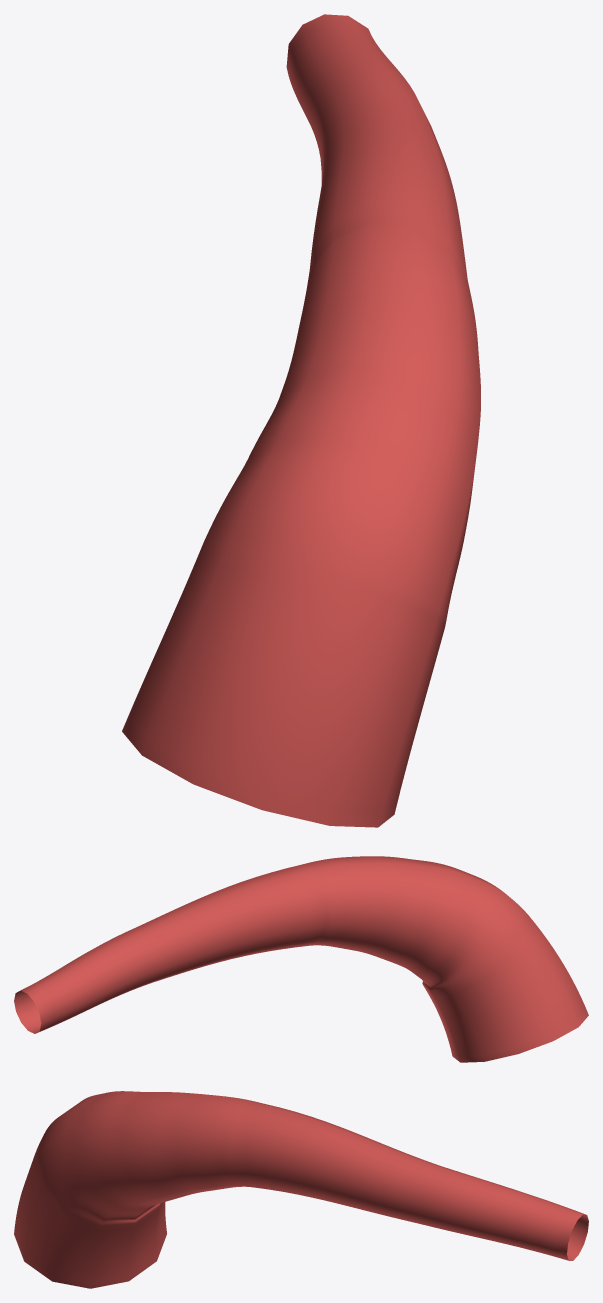
The picture shows the model from 3 angles, top to bottom: view 1: azimuth 30°, elevation 25°; view 2: azimuth 150°, elevation 25°; view 3: azimuth 270°, elevation 25°; orthographic projection. The views are drawn at different scales.
Visible parts, largest first — view 1: 左肺动脉; view 2: 左肺动脉; view 3: 左肺动脉.
Boxes of the visible parts, <box> form: 左肺动脉: <box>122,14,480,827</box>; 左肺动脉: <box>14,856,588,1062</box>; 左肺动脉: <box>14,1091,588,1288</box>.
Size of the model in its own units: 0.0993 by 0.0587 by 0.1355.
